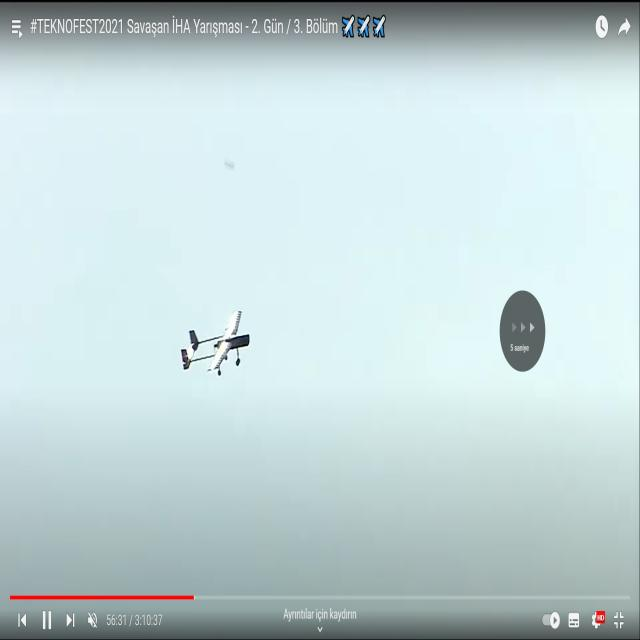iha: (213, 342, 219, 345)
